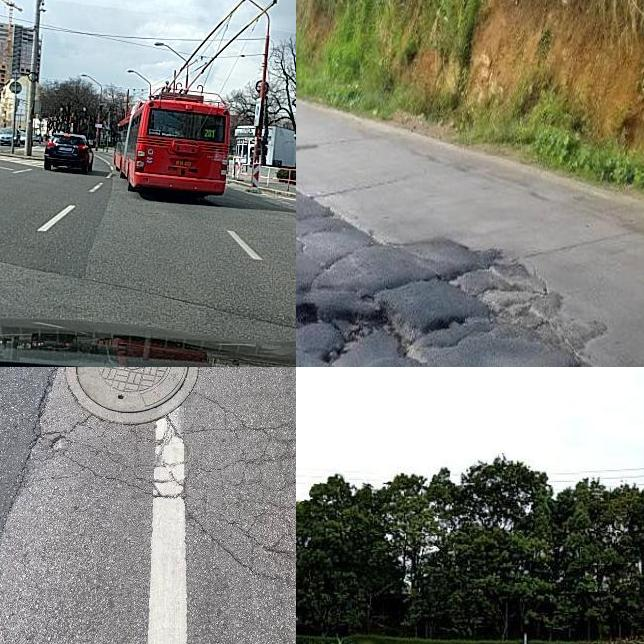Lubang: (67, 367, 200, 421)
Sambungan: (296, 189, 595, 367), (0, 161, 116, 270)
